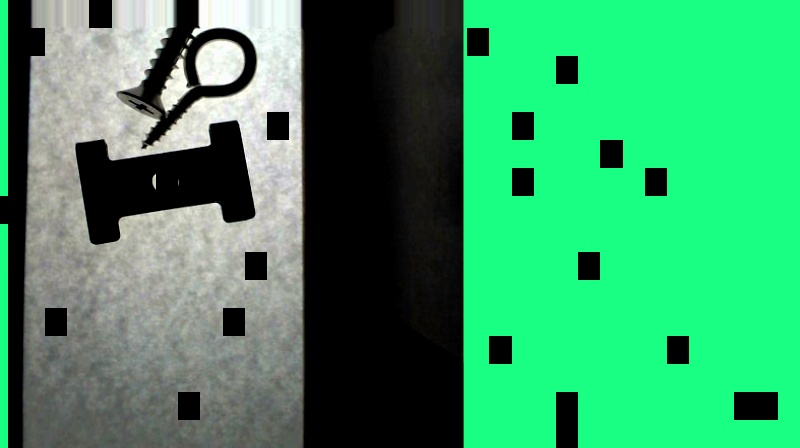O001: (139, 25, 257, 150)
O002: (74, 119, 256, 245)
S001: (114, 0, 219, 120)
